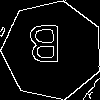B: (27, 25, 62, 71)
